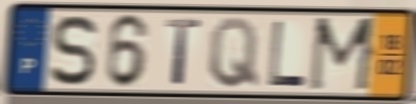6: (105, 11, 150, 92)
L: (266, 18, 307, 89)
M: (305, 15, 380, 95)
Q: (207, 15, 261, 91)
S: (48, 13, 100, 88)
T: (164, 16, 203, 88)
